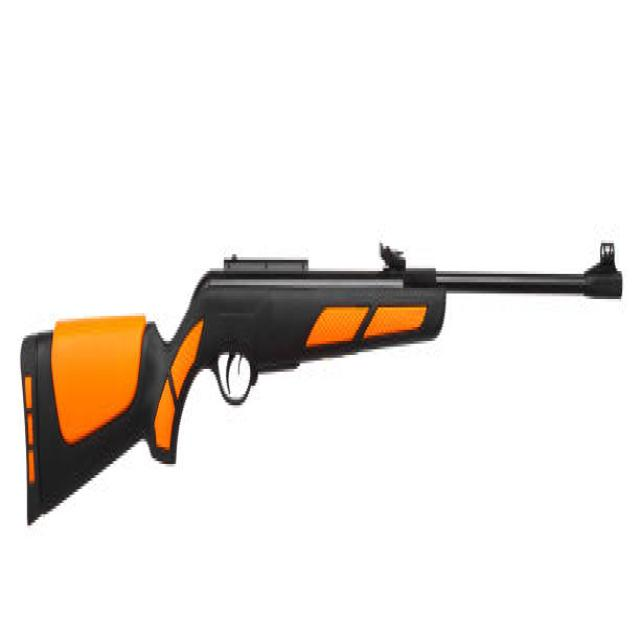rifle: (18, 222, 629, 541)
